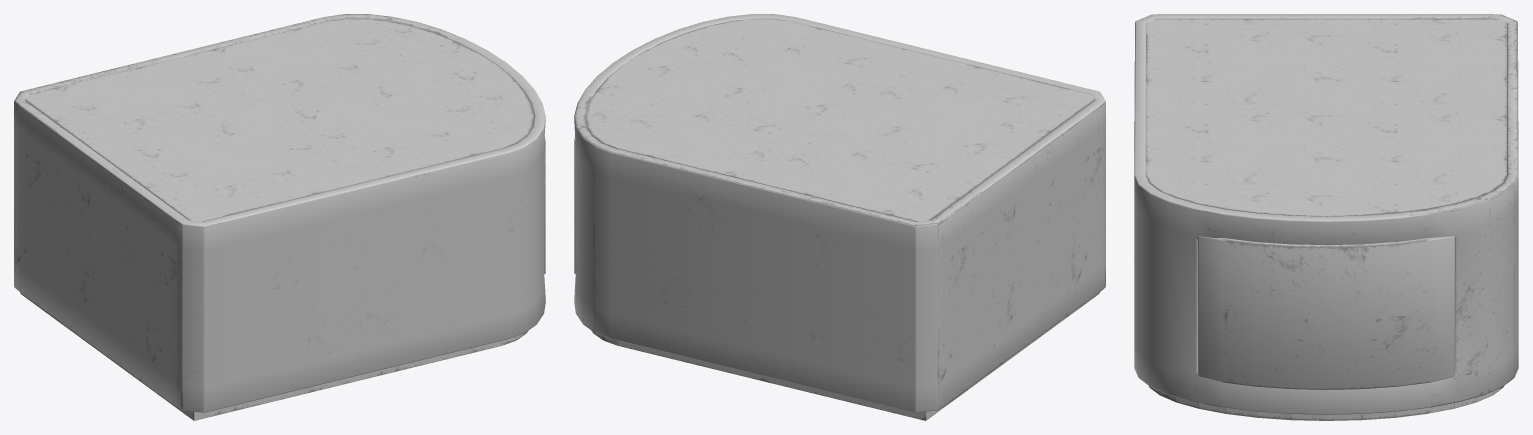
File: komnata1.fbx
The picture shows the model from 3 angles, left to right: view 1: azimuth 30°, elevation 25°; view 2: azimuth 150°, elevation 25°; view 3: azimuth 270°, elevation 25°; orthographic projection. The views are drawn at different scales.
Visible parts, largest first — view 1: Circle.001, Circle.002, Circle; view 2: Circle.001, Circle.002, Circle; view 3: Circle.001, Circle.002, Circle.
Part boxes in pixels (x1,y1,x2,y2): Circle.001: (14, 14, 545, 412); Circle.002: (25, 18, 534, 221); Circle: (20, 292, 528, 420); Circle.001: (574, 14, 1105, 412); Circle.002: (585, 18, 1094, 221); Circle: (591, 292, 1099, 420); Circle.001: (1134, 14, 1518, 414); Circle.002: (1146, 18, 1506, 216); Circle: (1149, 386, 1503, 420).
Bounding box in the file's own units: 500 × 230 × 391.
Materials: 2 (2 with a texture image).
